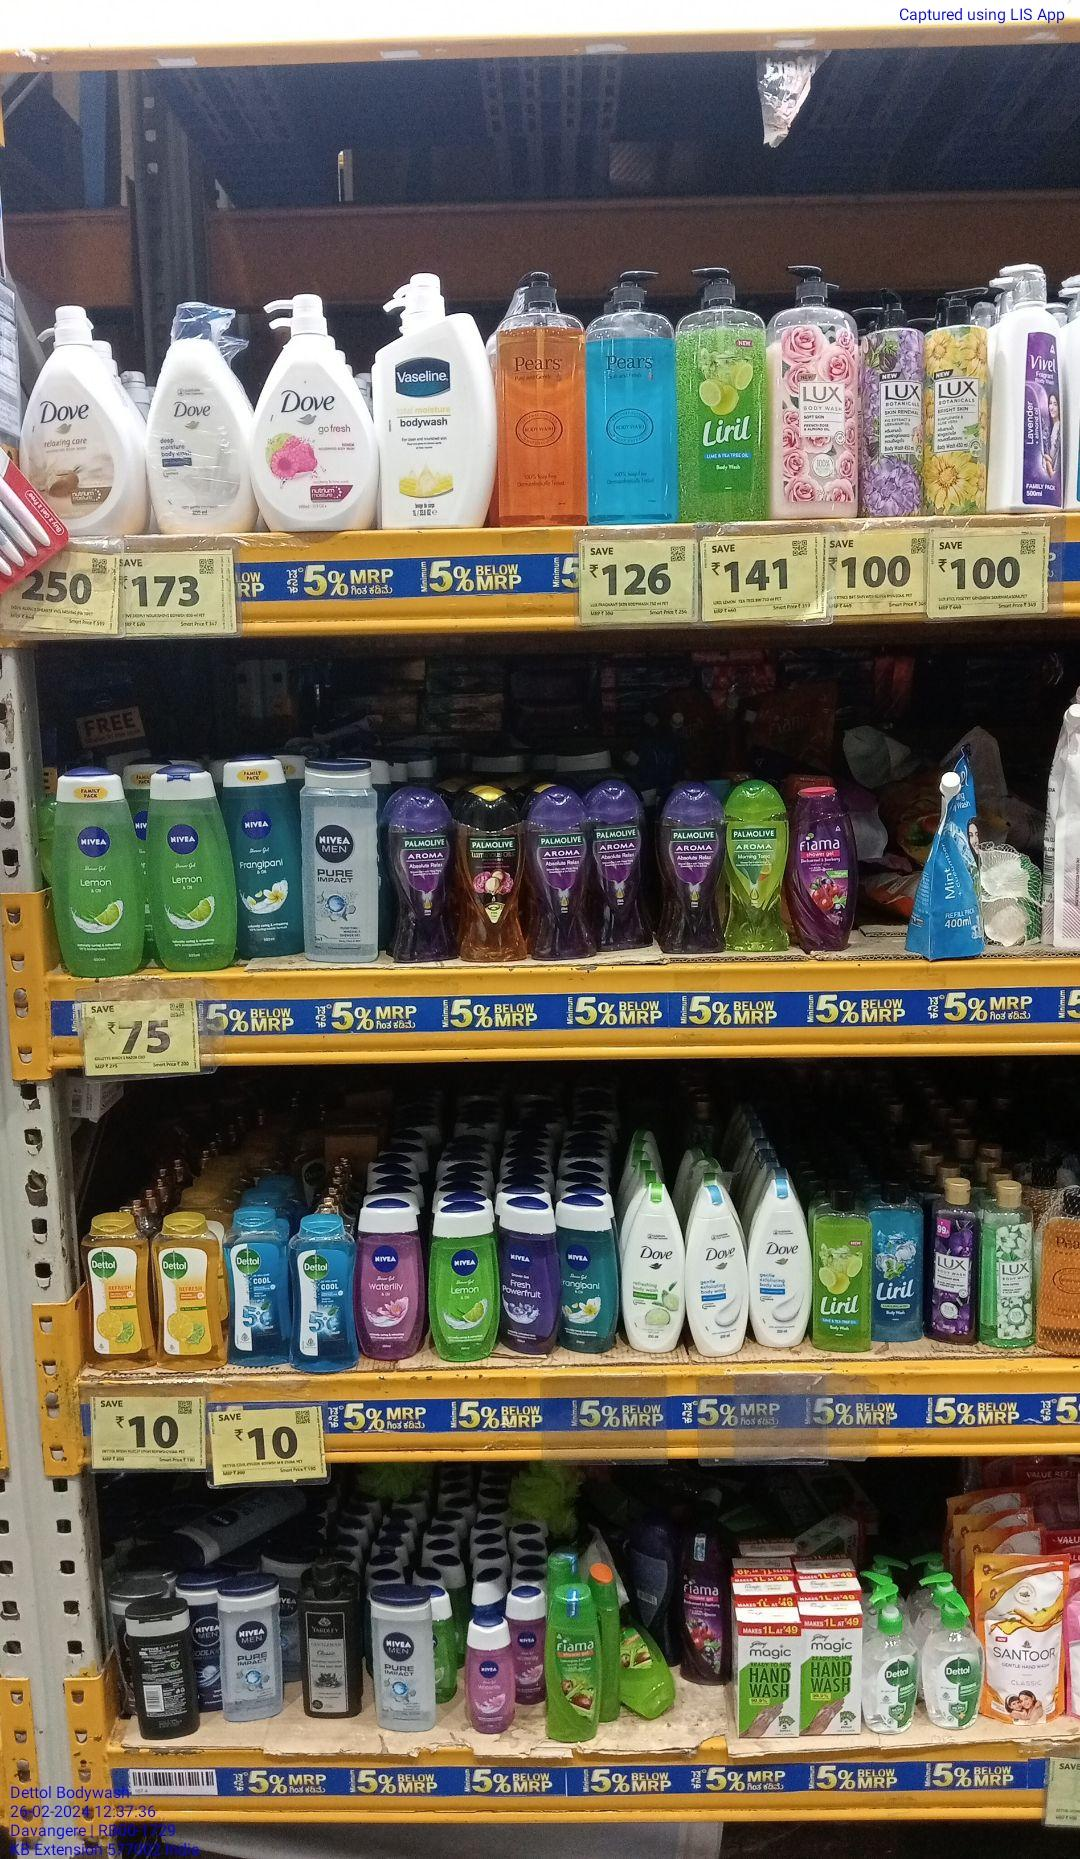Dettol_Bodywash_Cool: (224, 1207, 292, 1372), (291, 1211, 359, 1376)
Dettol_Bodywash_Refresh: (81, 1208, 156, 1369), (157, 1212, 228, 1372)
Dove_Gentle_Exfoliating_Body_Wash_250ML: (684, 1183, 751, 1356), (750, 1175, 813, 1351)
Dove_Refreshing_Body_Wash_250ML: (621, 1181, 685, 1354)
Fiama_Shower_Gel_Lemongrass_and_Jojoba_250ML: (546, 1583, 602, 1742)
Lux_Black_Orchid_Scent_and_Juniper_Oil_Body_Wash_245ML: (926, 1175, 981, 1346)
Lux_Body_Wash_Skin_Detox_Freesia_Scent_and_Alove_Vera_245ML: (984, 1178, 1039, 1351)
Nivea_Shower_Gel_Frangipani_and_Oil_250ML: (220, 750, 307, 958), (557, 1194, 621, 1352)
Nivea_Shower_Gel_Fresh_Powerfruit_250ML: (498, 1197, 561, 1354)
Nivea_Shower_Gel_Lemon_and_Oil_250ML: (53, 760, 144, 976), (145, 766, 240, 969), (427, 1201, 501, 1361)
Nivea_Shower_Gel_Waterlily_and_Oil_250ML: (357, 1194, 423, 1361), (464, 1615, 519, 1736)
Palmolive_Aroma_Relax_250ML: (585, 779, 657, 954), (381, 788, 453, 962), (658, 778, 728, 954), (532, 783, 595, 959)
Palmolive_Luminous_Oils_Invigorating_Macadamia_Oil_With_Peony_250ML: (455, 787, 526, 964)
